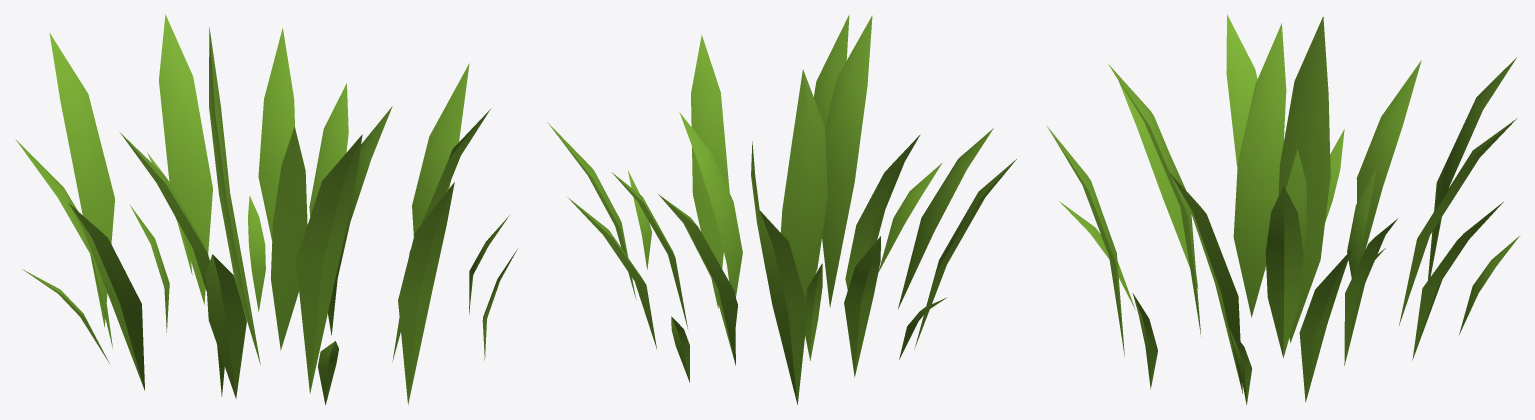
The model's file is Grass_01.fbx.
The picture shows the model from 3 angles, left to right: view 1: azimuth 30°, elevation 25°; view 2: azimuth 150°, elevation 25°; view 3: azimuth 270°, elevation 25°; orthographic projection. The views are drawn at different scales.
Visible parts, largest first — view 1: Grass_01; view 2: Grass_01; view 3: Grass_01.
Boxes of the visible parts, x1=… form: Grass_01: x1=15, y1=14, x2=517, y2=405; Grass_01: x1=547, y1=15, x2=1016, y2=404; Grass_01: x1=1047, y1=14, x2=1520, y2=405.
Bounding box in the file's own units: 93.21 × 64.63 × 88.04.
